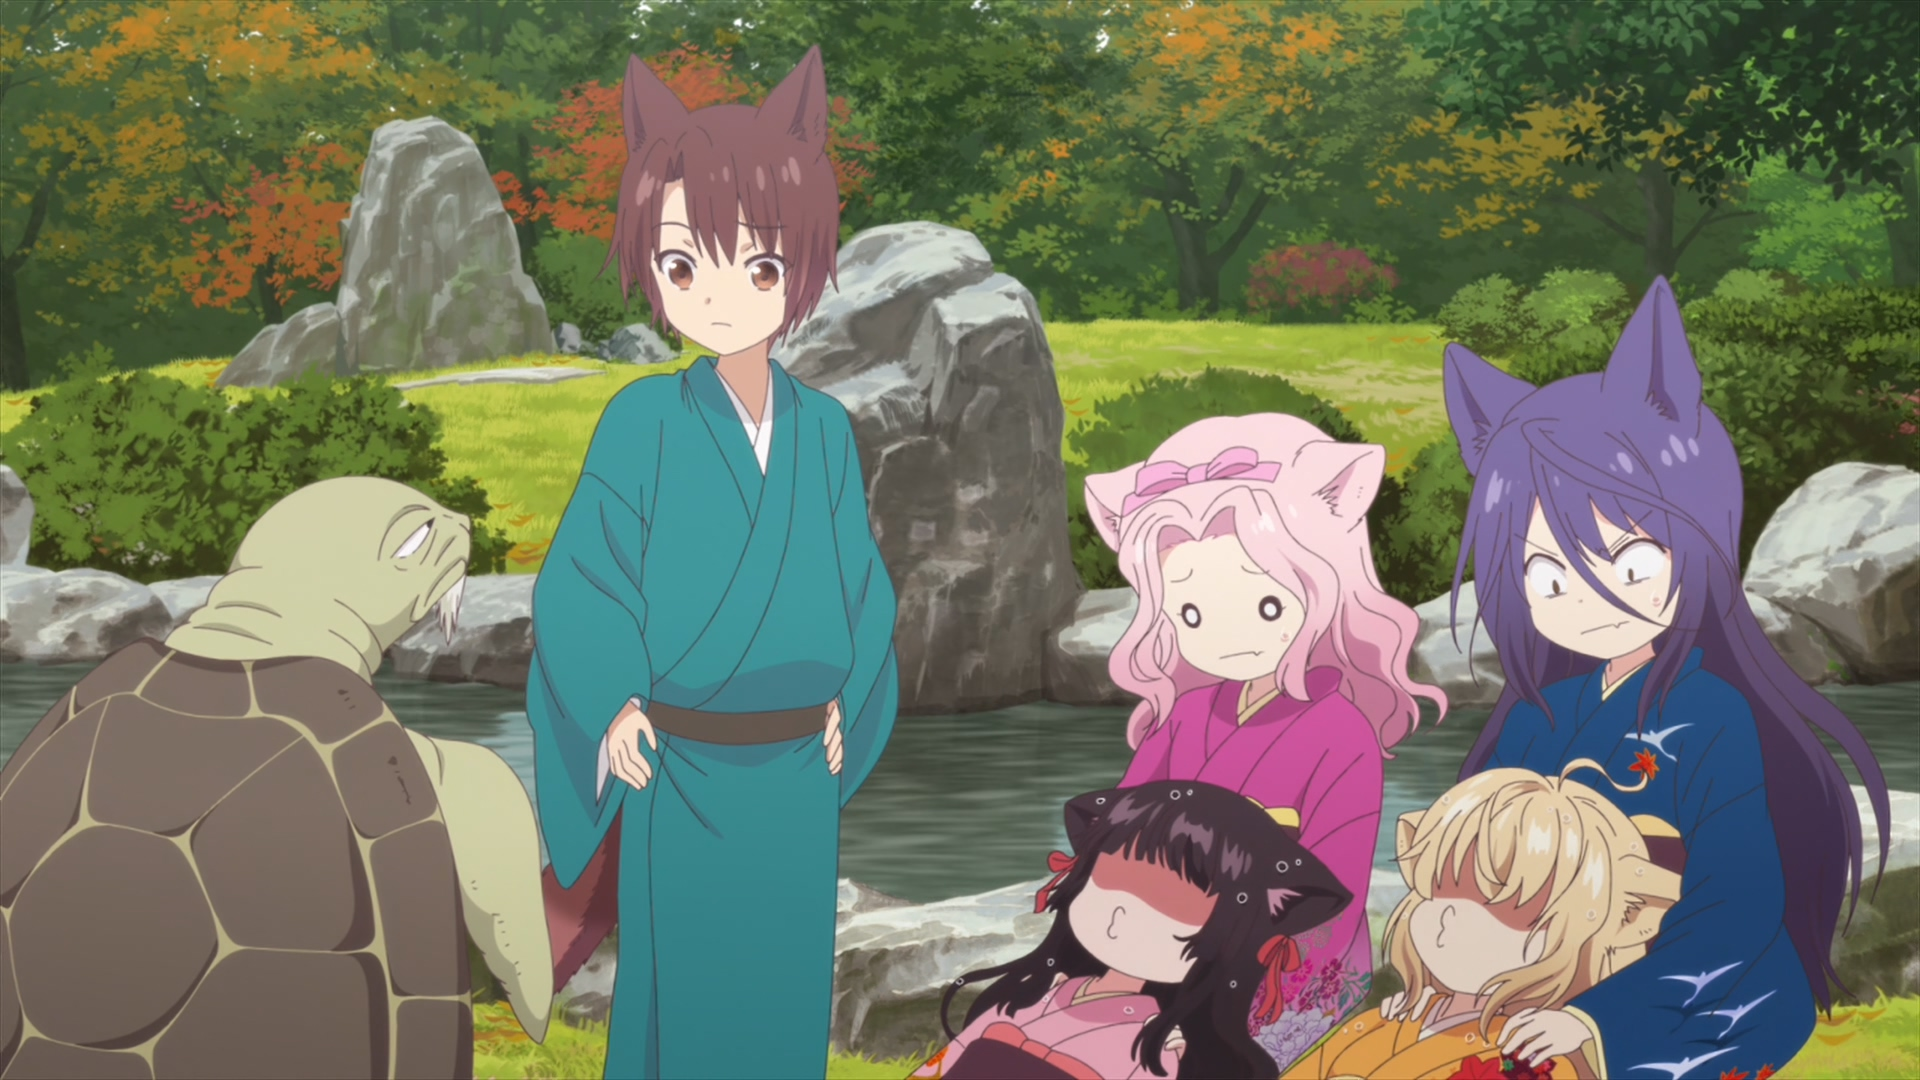其他: (1, 476, 553, 1080)
枣: (493, 44, 899, 1080)
柚: (1276, 758, 1681, 1080)
樱: (905, 782, 1354, 1080)
皋: (1444, 274, 1894, 1080)
莲: (1083, 413, 1449, 1080)
